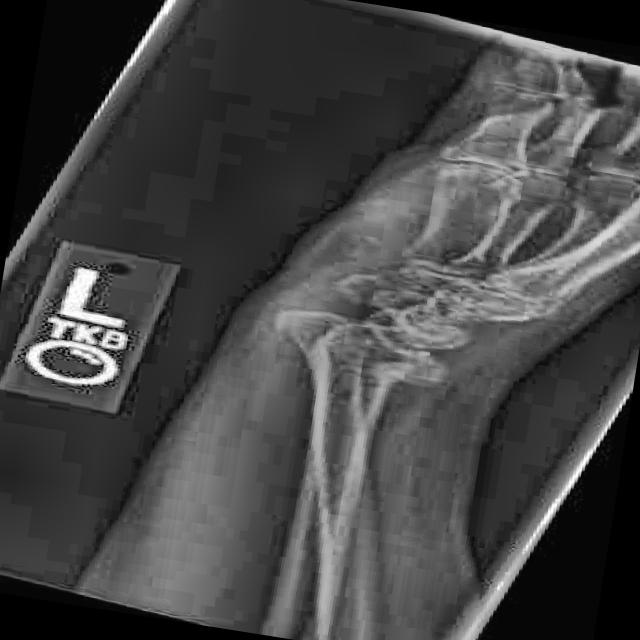wrist positive: (225, 292, 485, 429)
